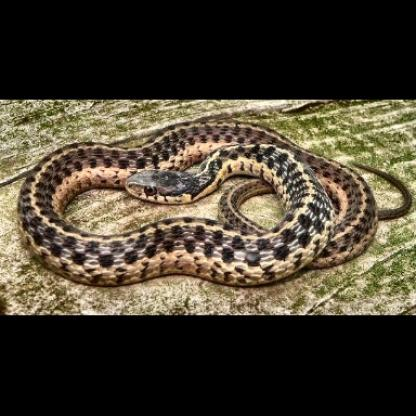Snake: (7, 116, 410, 306)
